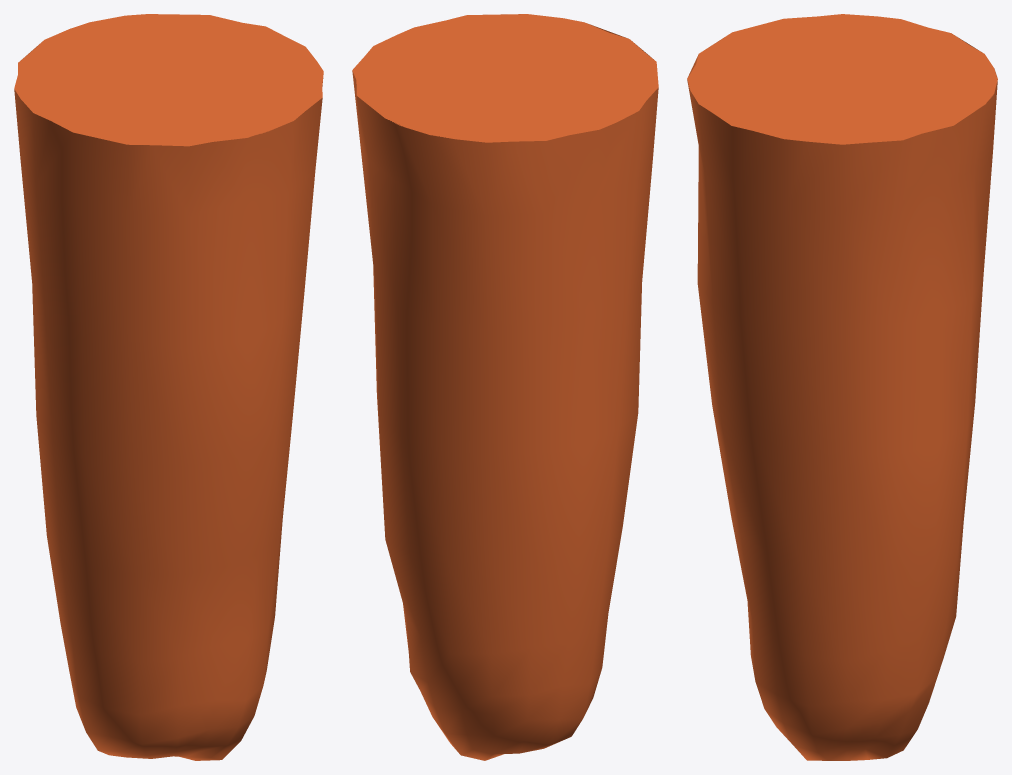
The model's file is carrot3.fbx.
3 views of the same model, side by side, from view 1: azimuth 30°, elevation 25°; view 2: azimuth 150°, elevation 25°; view 3: azimuth 270°, elevation 25° (orthographic). The views are drawn at different scales.
Visible parts, largest first — view 1: Cylinder.002; view 2: Cylinder.002; view 3: Cylinder.002.
Boxes of the visible parts, <box> form: Cylinder.002: <box>14,14,323,760</box>; Cylinder.002: <box>352,14,658,760</box>; Cylinder.002: <box>687,14,997,760</box>.
Bounding box in the file's own units: 46.8 × 112 × 47.01.
